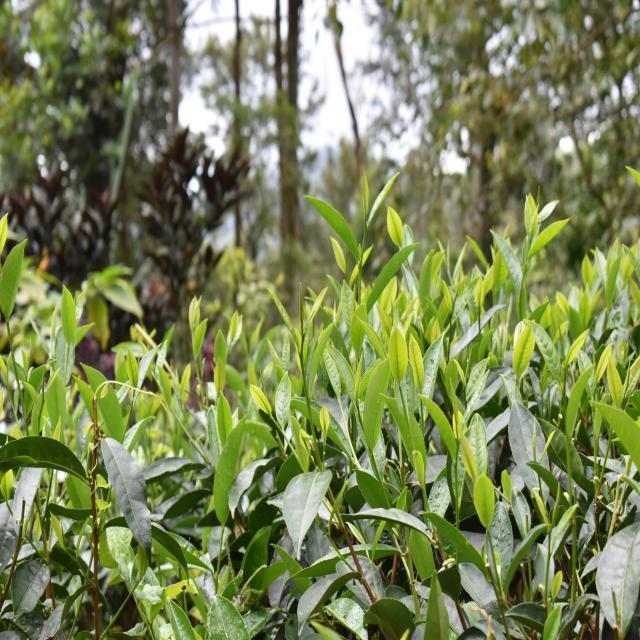Stem: (355, 406, 362, 420), (299, 356, 304, 370), (6, 322, 11, 335), (362, 232, 367, 244), (563, 370, 566, 380)
